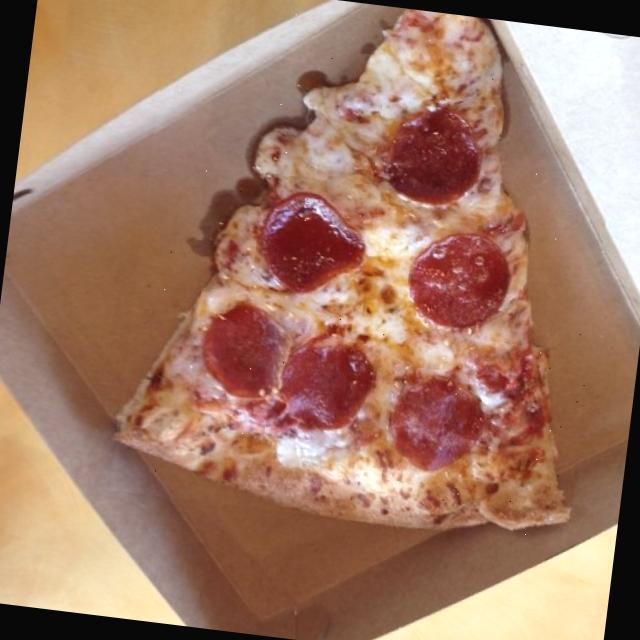pepperoni: (248, 172, 378, 316), (402, 217, 528, 344), (186, 287, 302, 423), (370, 93, 494, 217), (382, 364, 492, 490), (264, 332, 378, 450)
pizza: (117, 8, 569, 528)
